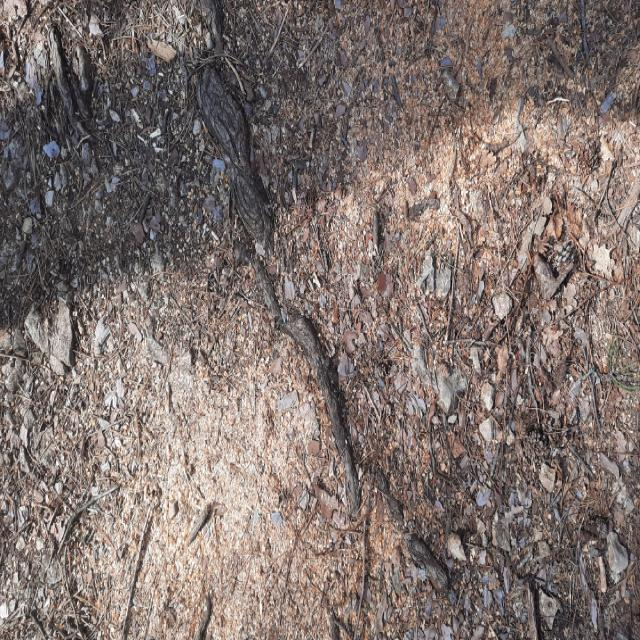white-sand: (0, 0, 639, 637)
